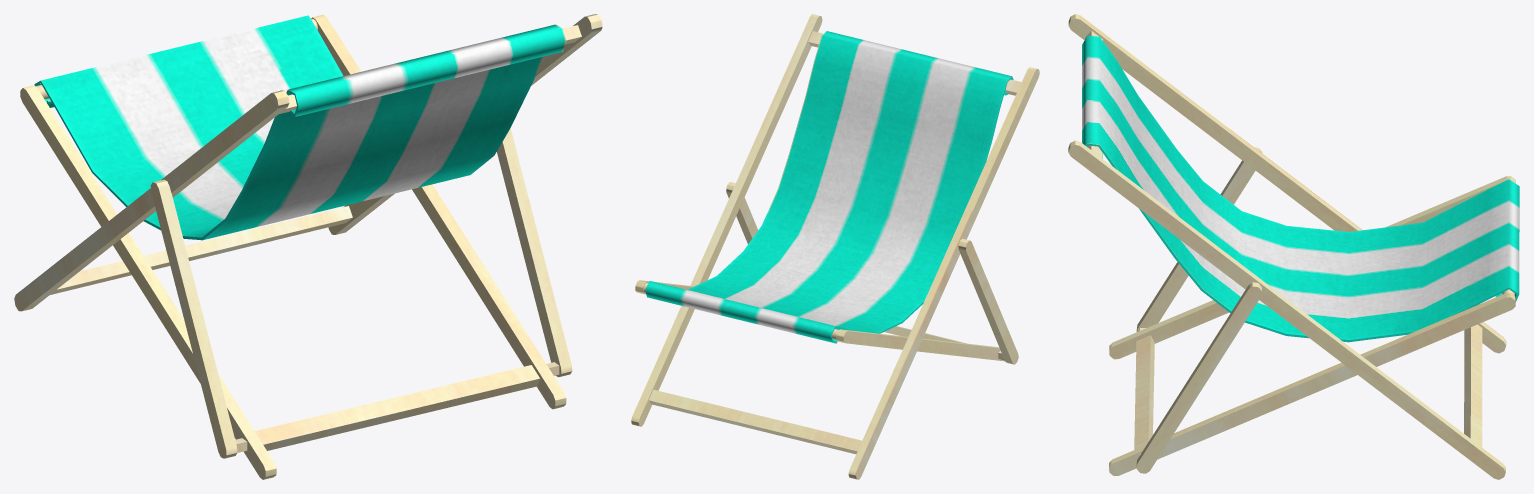
Rendered from ETC0610060.fbx.
3 views of the same model, side by side, from view 1: azimuth 30°, elevation 25°; view 2: azimuth 150°, elevation 25°; view 3: azimuth 270°, elevation 25° (orthographic). The views are drawn at different scales.
Visible parts, largest first — view 1: smETC0610060; view 2: smETC0610060; view 3: smETC0610060.
Boxes of the visible parts, x1,y1,x2,y2 form: smETC0610060: (14, 14, 602, 479); smETC0610060: (631, 14, 1039, 479); smETC0610060: (1068, 14, 1519, 479).
Size of the model in its own units: 102 by 115 by 140.
Materials: 1 (1 with a texture image).
